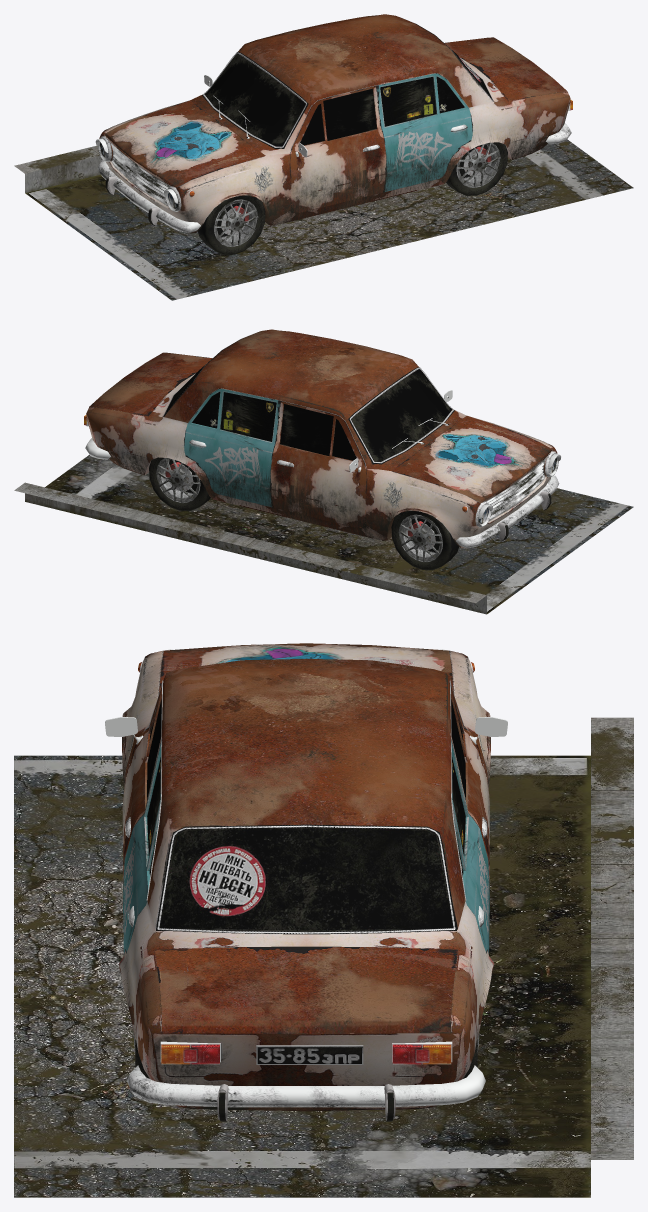
The model's file is mashine.glb.
3 views of the same model, one above another, from view 1: azimuth 30°, elevation 25°; view 2: azimuth 150°, elevation 25°; view 3: azimuth 270°, elevation 25° (orthographic). The views are drawn at different scales.
Visible parts, largest first — view 1: body, ground, wheels_and_everything; view 2: body, ground, wheels_and_everything; view 3: body, ground, wheels_and_everything.
Part boxes in pixels (box(x1,y1,x2,y2)): body: box(95, 14, 570, 233); ground: box(14, 139, 633, 300); wheels_and_everything: box(97, 18, 572, 254); body: box(86, 329, 560, 548); ground: box(14, 455, 633, 614); wheels_and_everything: box(84, 335, 559, 570); body: box(119, 643, 493, 1111); ground: box(14, 717, 633, 1197); wheels_and_everything: box(105, 661, 507, 1121).
Bounding box in the file's own units: 454 × 132 × 269.
Materials: 3 (3 with a texture image).
